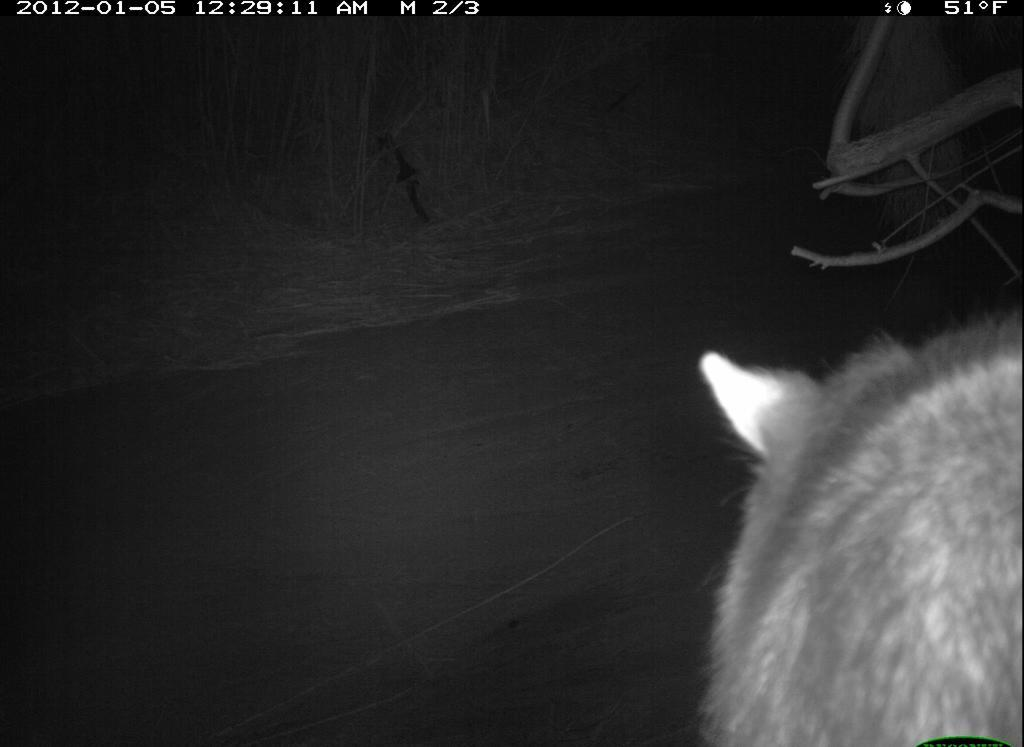raccoon: (678, 287, 1023, 747)
